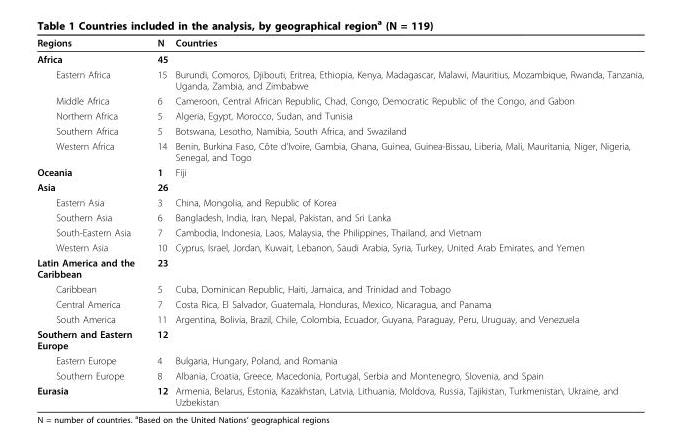table: (36, 36, 643, 407)
table column: (171, 36, 643, 407), (36, 36, 145, 407), (145, 36, 171, 407)
table column header: (36, 36, 643, 50)
table row: (36, 254, 643, 281), (36, 66, 643, 92), (36, 138, 643, 164), (36, 326, 643, 352), (36, 382, 643, 407), (36, 50, 643, 66), (36, 107, 643, 123), (36, 92, 643, 107), (36, 123, 643, 138), (36, 164, 643, 179), (36, 179, 643, 194), (36, 194, 643, 209), (36, 209, 643, 224), (36, 224, 643, 239), (36, 239, 643, 254), (36, 281, 643, 296), (36, 296, 643, 311), (36, 311, 643, 326), (36, 352, 643, 367), (36, 367, 643, 382), (36, 36, 643, 50)
